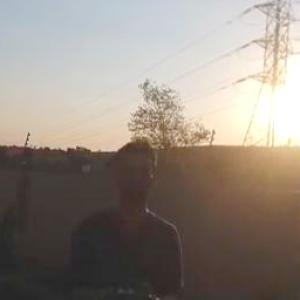follow: (58, 135, 189, 299)
